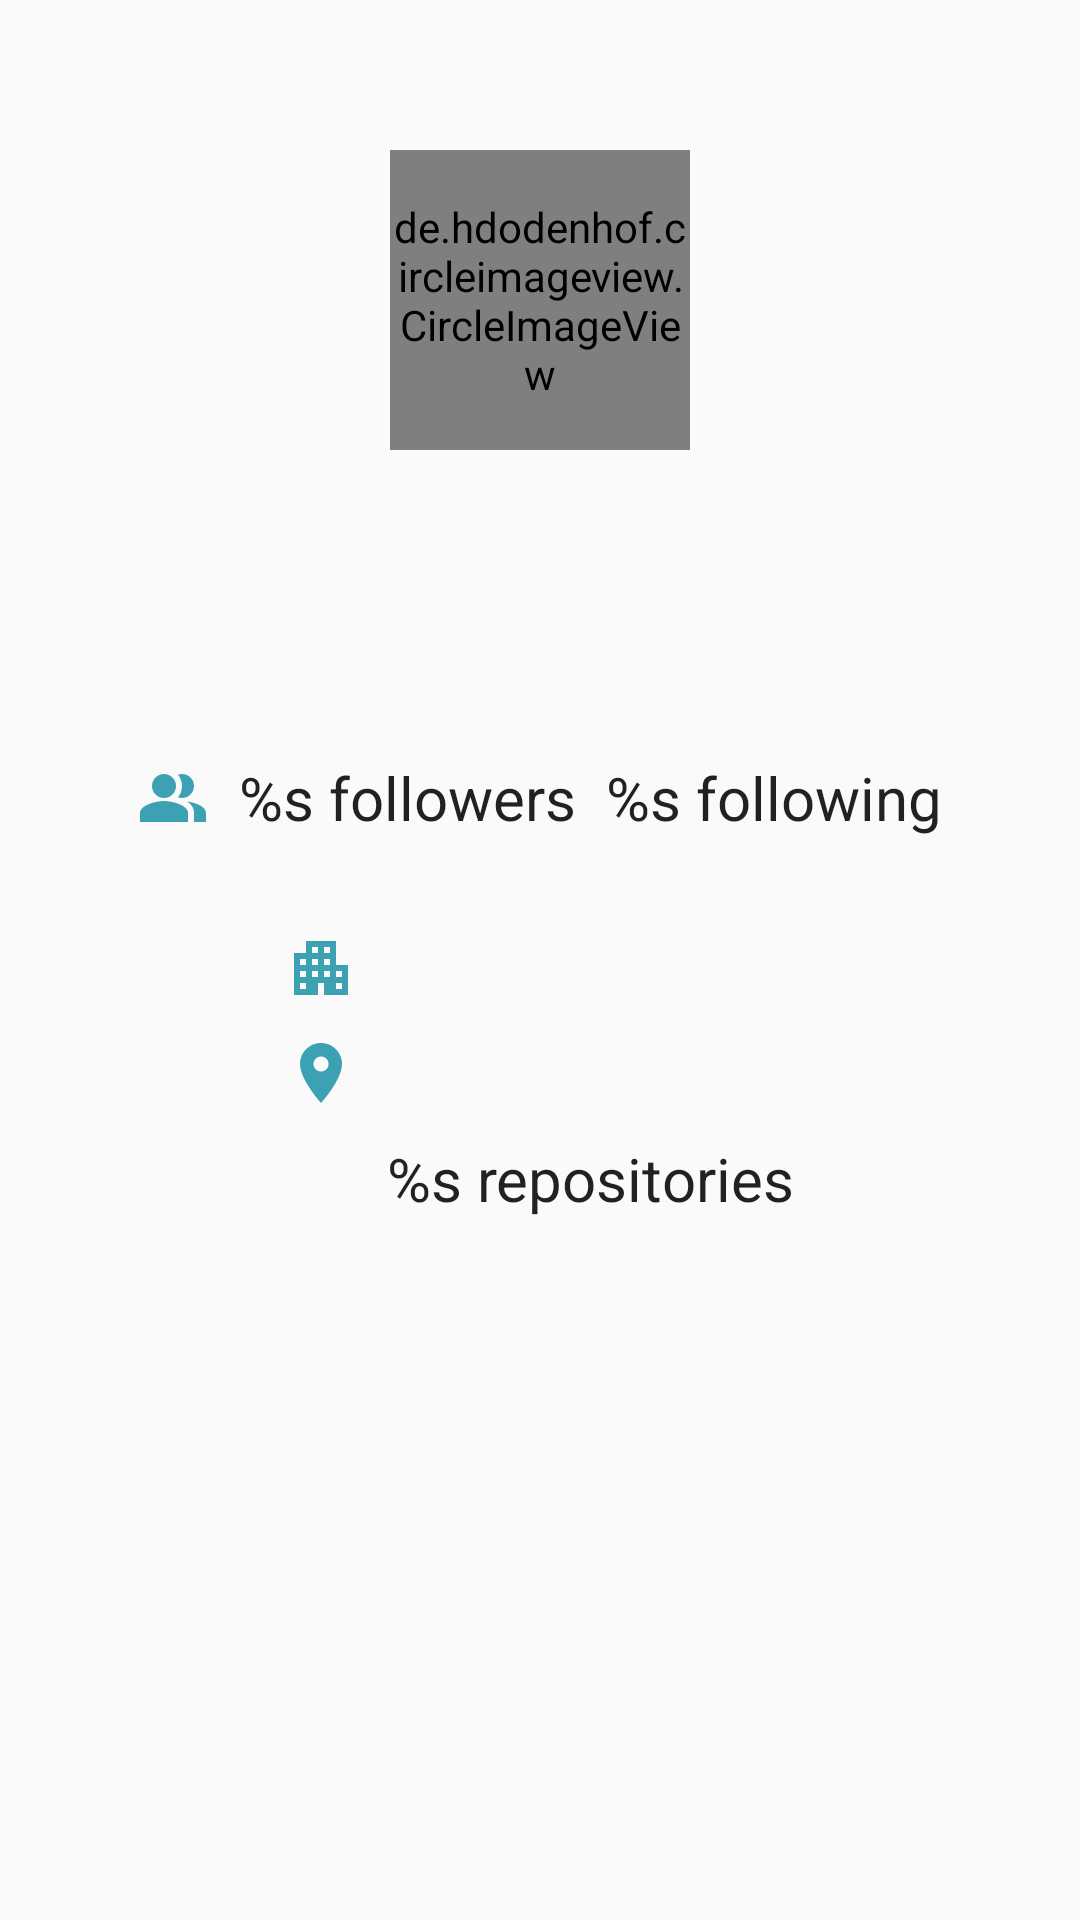

Screen size 1080px×1920px. Icon name, then its center in pixels as [x,y]:
location: [321,1073]
people: [173,798]
workplace: [321,968]
